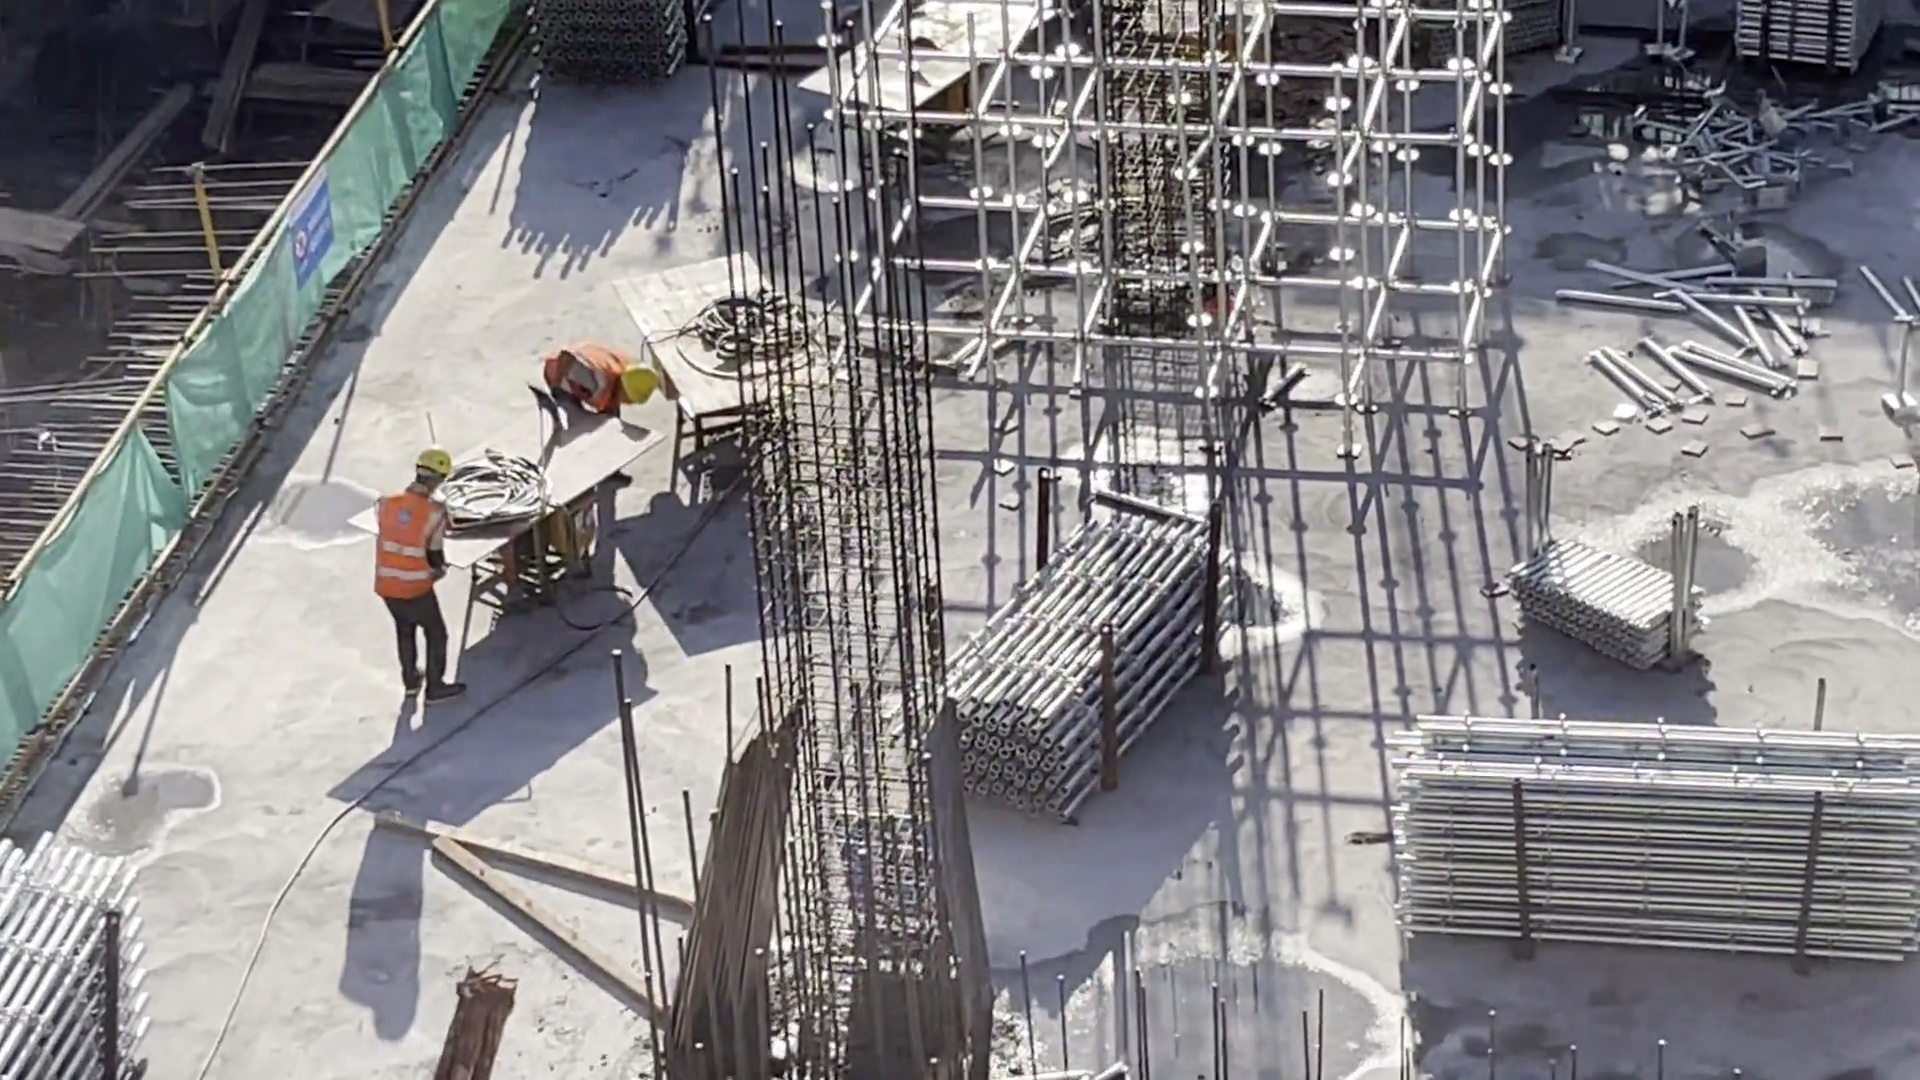board: (657, 687, 809, 1080)
cutter: (437, 390, 682, 646), (623, 241, 870, 484), (819, 5, 1069, 179)
helmet: (410, 445, 460, 489), (622, 364, 662, 411)
person: (374, 443, 477, 702), (538, 327, 654, 419)
scaffold: (1381, 695, 1920, 978), (949, 503, 1242, 823), (1, 828, 171, 1053), (1492, 531, 1667, 669), (1667, 92, 1823, 195), (528, 3, 691, 94), (1725, 1, 1871, 69)
slogan: (282, 142, 347, 298)
vest: (374, 495, 436, 593), (545, 346, 618, 412)
